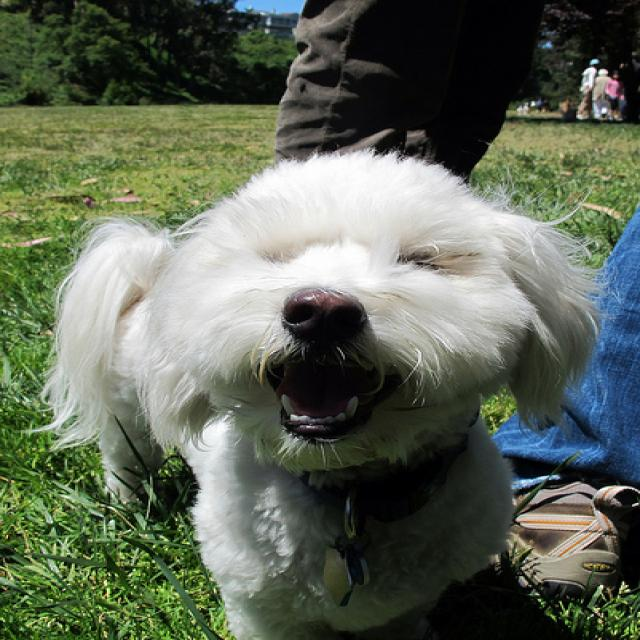dog-havanese: (13, 134, 621, 637)
